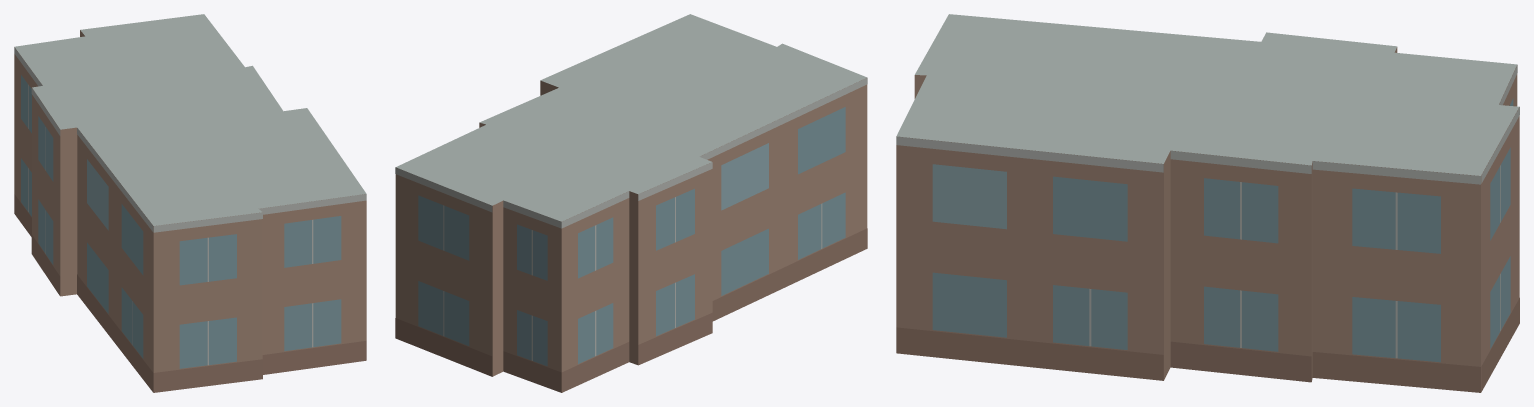
Rendered from survey-upis-32901884.glb.
The picture shows the model from 3 angles, left to right: view 1: azimuth 30°, elevation 25°; view 2: azimuth 150°, elevation 25°; view 3: azimuth 270°, elevation 25°; orthographic projection. The views are drawn at different scales.
Visible parts, largest first — view 1: survey-upis-32901884.tmp; view 2: survey-upis-32901884.tmp; view 3: survey-upis-32901884.tmp.
Part boxes in pixels (bbox=[...]): survey-upis-32901884.tmp: bbox=[14, 14, 366, 392]; survey-upis-32901884.tmp: bbox=[395, 14, 867, 392]; survey-upis-32901884.tmp: bbox=[896, 14, 1519, 392].
Size of the model in its own units: 9.78 by 6.1 by 15.9.
